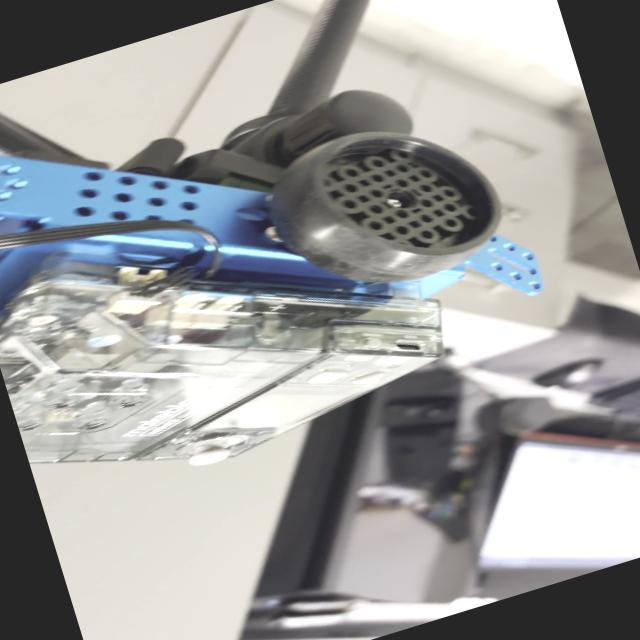mbot-detection: (0, 0, 583, 524)
